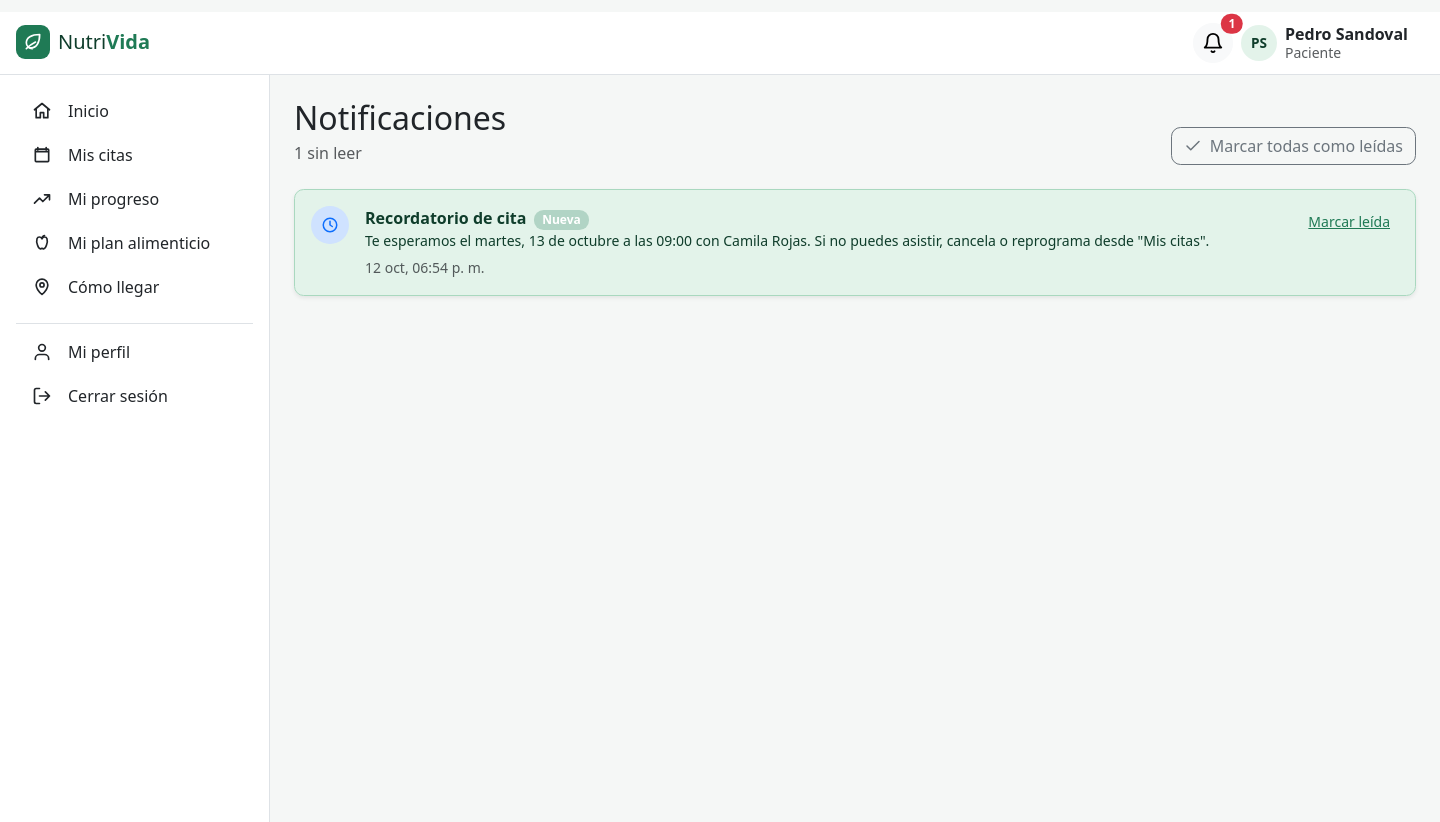
Scenario: pages/Notificaciones y pages/Perfil › marca todas las notificaciones como leídas
Click the button "Marcar todas como leídas" at point(1293, 146), box top-left (1171, 127), bottom-right (1416, 165)
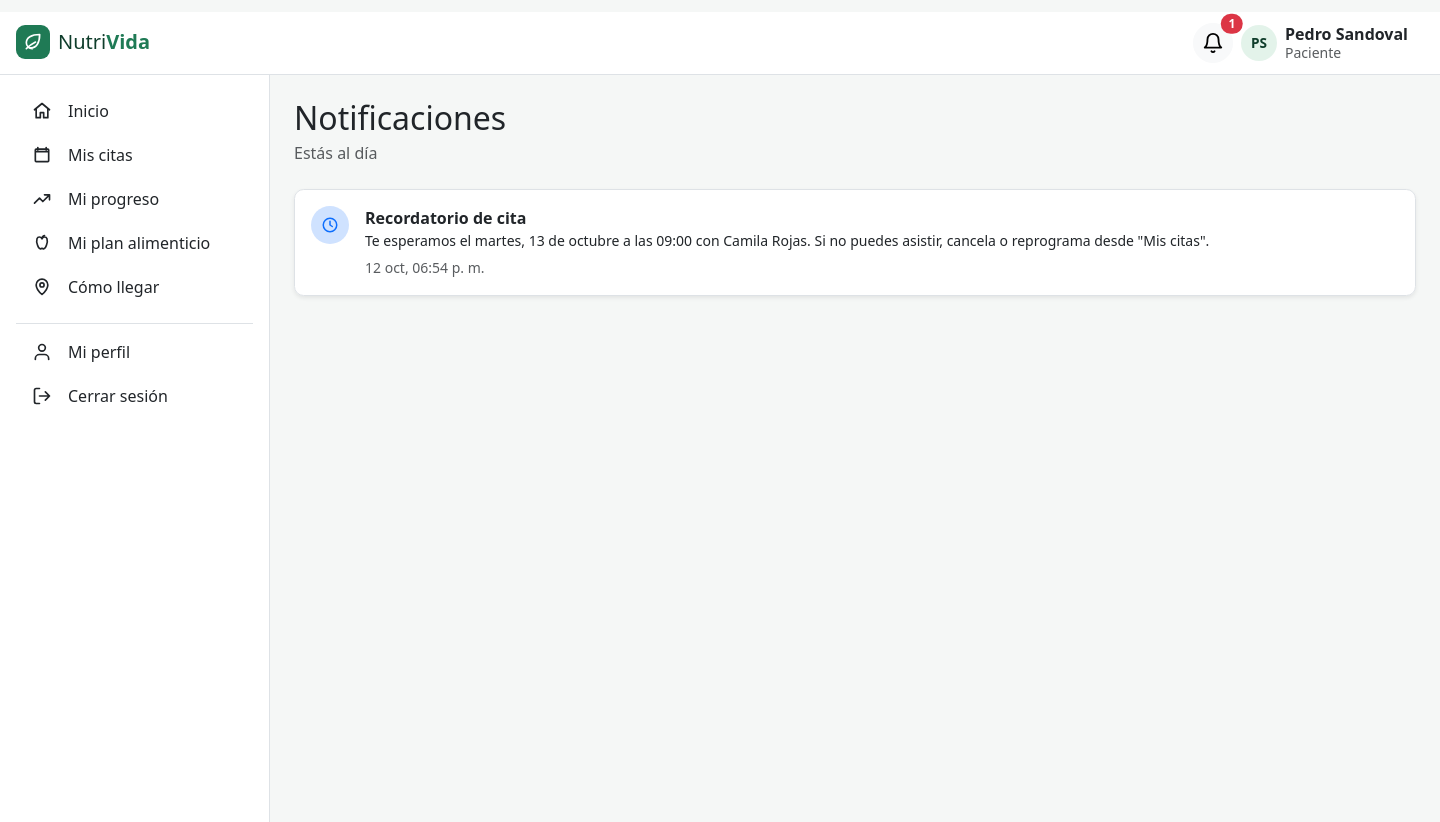
Now the text "Estás al día" is shown, box top-left (294, 142), bottom-right (377, 164)
